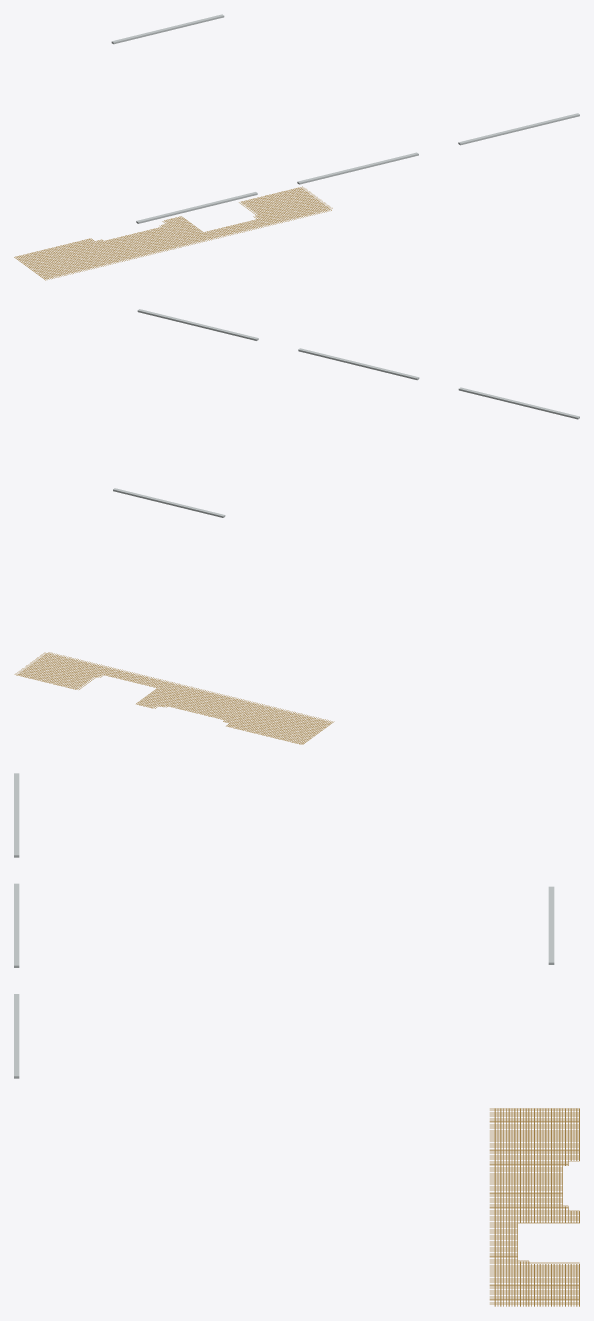
Rendered from vr-details.glb.
3 renders of one model, top to bottom at view 1: azimuth 30°, elevation 25°; view 2: azimuth 150°, elevation 25°; view 3: azimuth 270°, elevation 25°, orthographic. The views are drawn at different scales.
Visible parts, largest first — view 1: VR ochre grid clipped to original safe floor.001, transverse LED housing 1, transverse LED housing 0, transverse LED housing 2, transverse LED housing 3; view 2: VR ochre grid clipped to original safe floor.001; view 3: VR ochre grid clipped to original safe floor.001.
Boxes of the visible parts, bbox=[...] form: VR ochre grid clipped to original safe floor.001: bbox=[14, 186, 332, 280]; transverse LED housing 1: bbox=[297, 152, 418, 184]; transverse LED housing 0: bbox=[136, 192, 257, 223]; transverse LED housing 2: bbox=[458, 113, 579, 145]; transverse LED housing 3: bbox=[111, 14, 224, 44]; VR ochre grid clipped to original safe floor.001: bbox=[14, 652, 334, 744]; VR ochre grid clipped to original safe floor.001: bbox=[489, 1108, 579, 1306].
Size of the model in its own units: 4.99 by 2.17 by 3.94.
